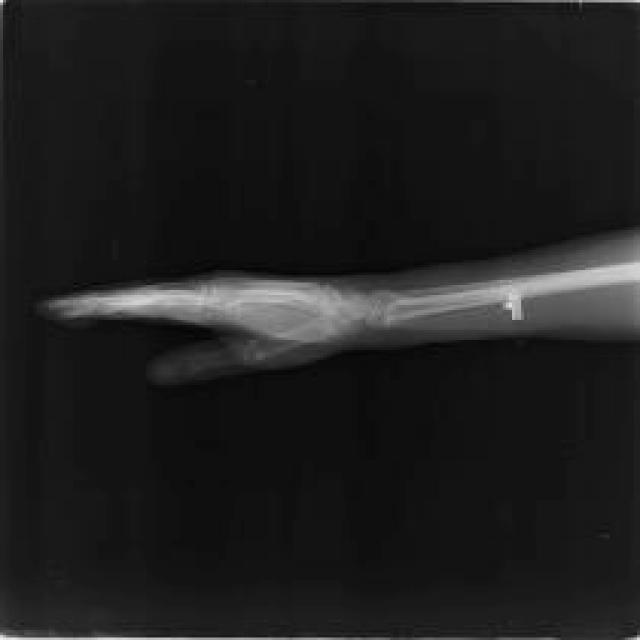normal: (38, 260, 640, 381)
